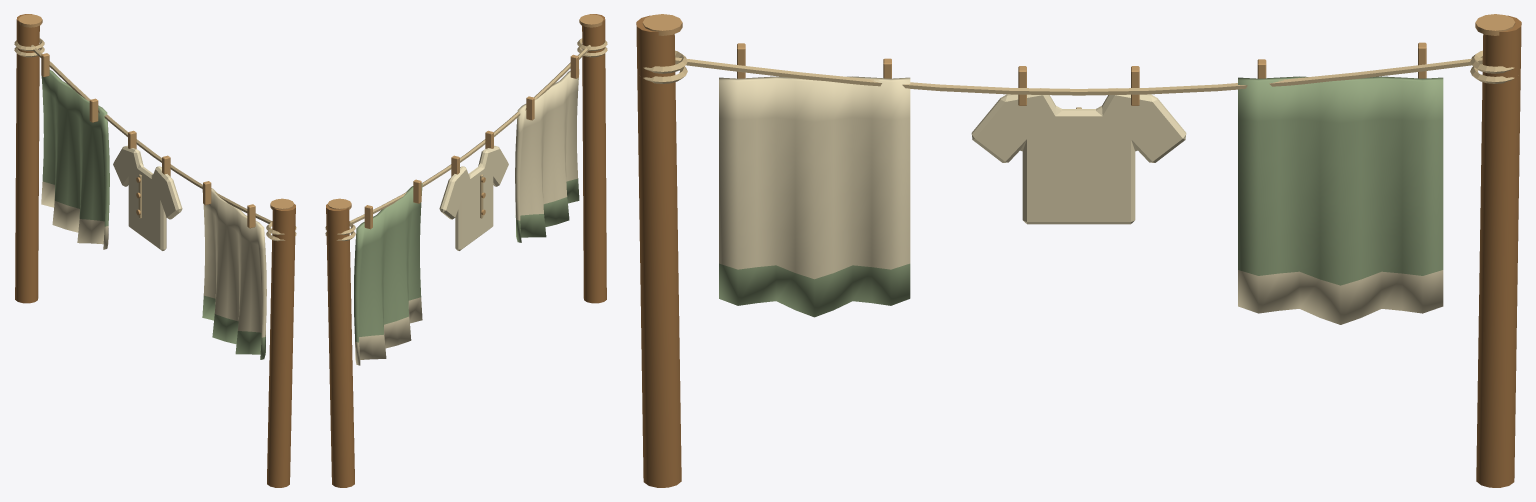
File: SM_HomeClothesline.fbx
3 views of the same model, side by side, from view 1: azimuth 30°, elevation 25°; view 2: azimuth 150°, elevation 25°; view 3: azimuth 270°, elevation 25° (orthographic). The views are drawn at different scales.
Parts seen in each view (by area): view 1: SM_HomeClothesline; view 2: SM_HomeClothesline; view 3: SM_HomeClothesline.
Boxes of the visible parts, bbox=[...] form: SM_HomeClothesline: bbox=[14, 14, 296, 487]; SM_HomeClothesline: bbox=[325, 14, 607, 487]; SM_HomeClothesline: bbox=[636, 14, 1521, 487].
Size of the model in its own units: 0.211 by 3.15 by 1.81.
